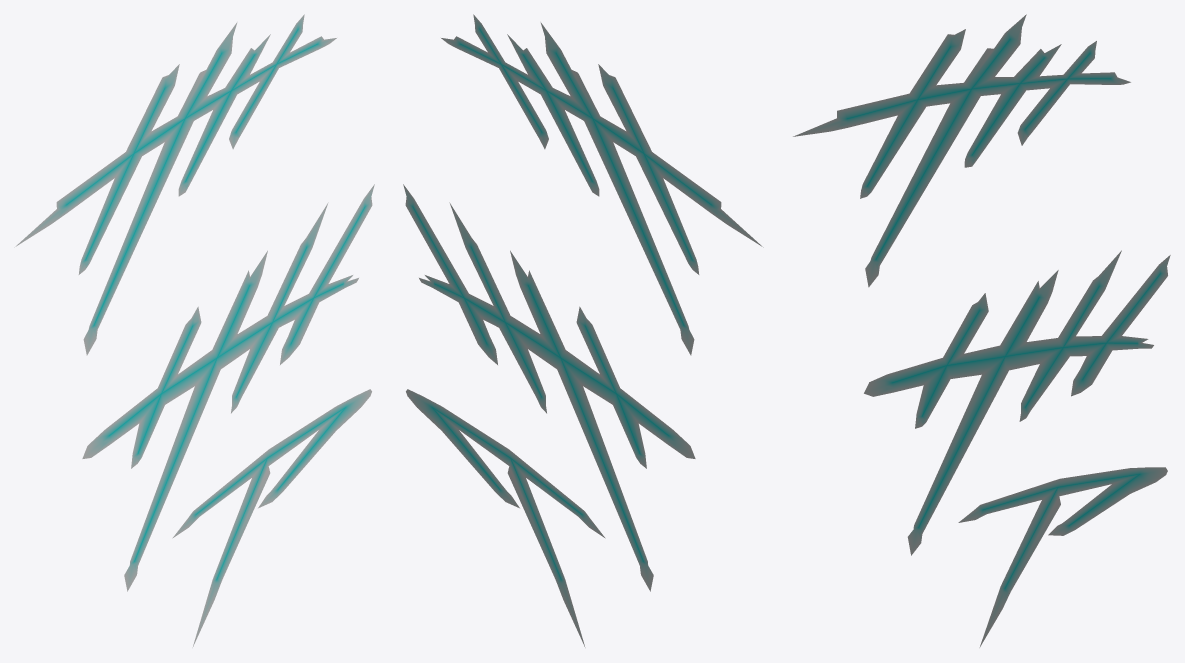
Rendered from SM_EFF_Text_ShikigamiDanceShield_02.glb.
The picture shows the model from 3 angles, left to right: view 1: azimuth 30°, elevation 25°; view 2: azimuth 150°, elevation 25°; view 3: azimuth 330°, elevation 25°; orthographic projection. The views are drawn at different scales.
Visible parts, largest first — view 1: SM_EFF_Text_ShikigamiDanceShield_02; view 2: SM_EFF_Text_ShikigamiDanceShield_02; view 3: SM_EFF_Text_ShikigamiDanceShield_02.
Part boxes in pixels (box(x1,y1,x2,y2)): SM_EFF_Text_ShikigamiDanceShield_02: box(14, 14, 374, 647); SM_EFF_Text_ShikigamiDanceShield_02: box(403, 14, 763, 647); SM_EFF_Text_ShikigamiDanceShield_02: box(793, 14, 1170, 647).
Size of the model in its own units: 1.91 by 3.12 by 1.1e-08.
